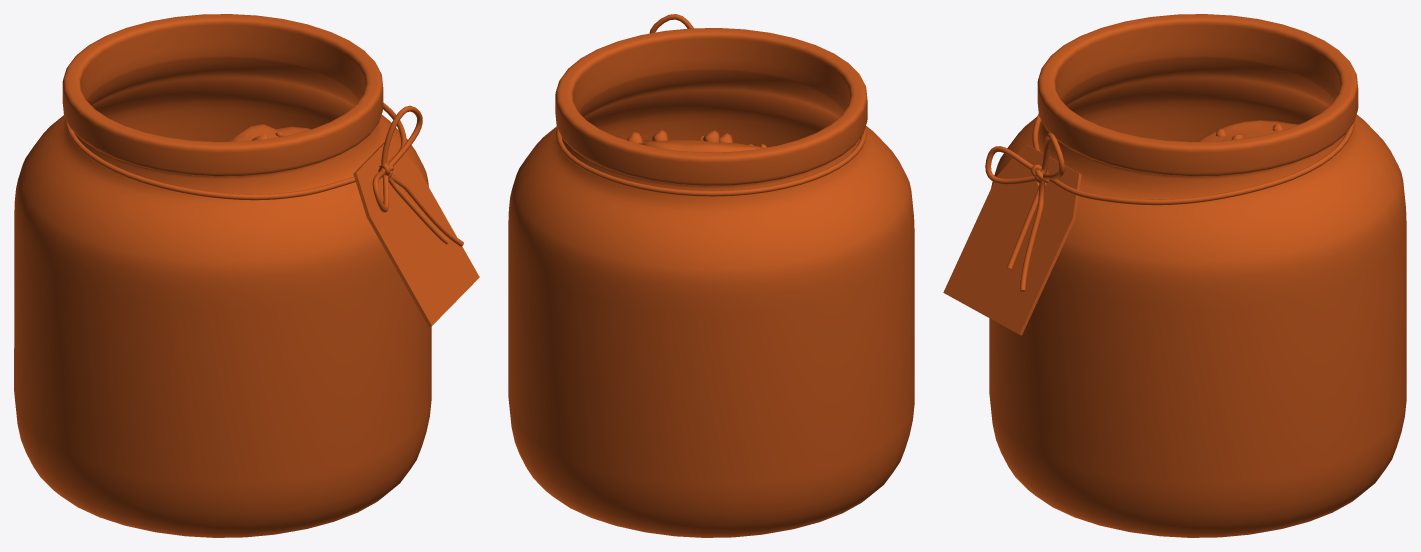
The model's file is cookies.fbx.
3 views of the same model, side by side, from view 1: azimuth 30°, elevation 25°; view 2: azimuth 150°, elevation 25°; view 3: azimuth 270°, elevation 25° (orthographic). The views are drawn at different scales.
Parts seen in each view (by area): view 1: cookies; view 2: cookies; view 3: cookies.
Boxes of the visible parts, left/top/right/bottom form: cookies: left=14, top=14, right=479, bottom=537; cookies: left=508, top=14, right=914, bottom=537; cookies: left=943, top=14, right=1406, bottom=537.
Bounding box in the file's own units: 21.8 × 22.31 × 24.19.
